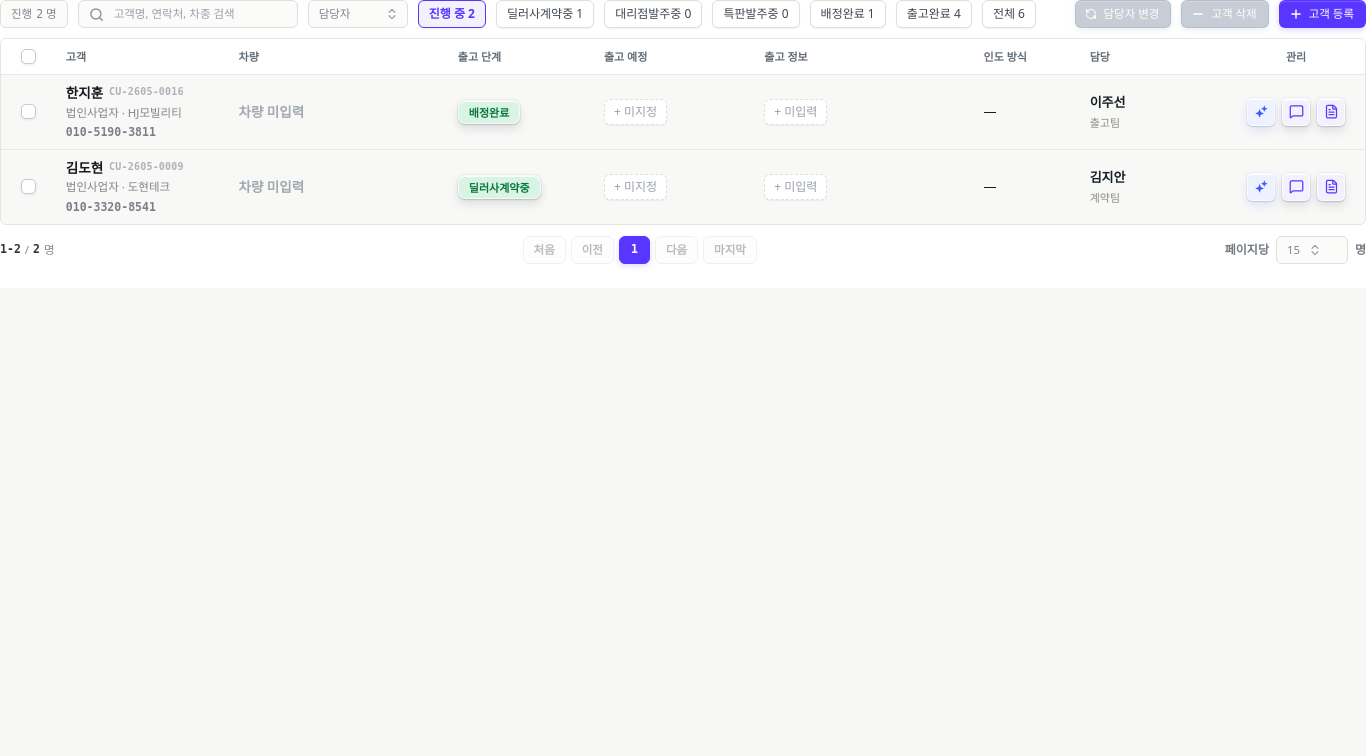
Scenario: 출고 관리(delivery) 콘솔 › 정산 칸은 최고관리자에게만 보인다
Click the button "+ 미입력" in the row of "한지훈" at point(796, 112), box [764,99,827,125]
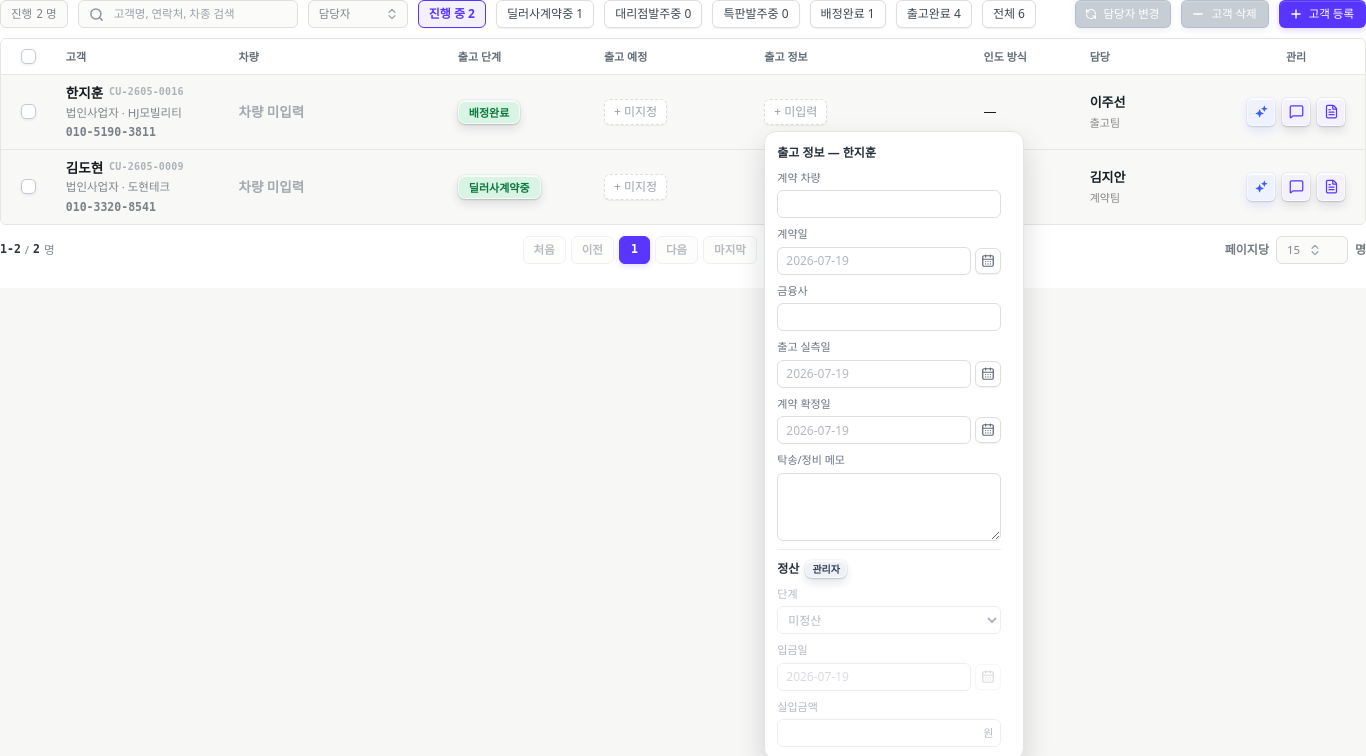
Check: the field labelled "입금일" is shown, box [777,663,971,691]
Check: the field labelled "실입금액 원" is shown, box [777,719,1001,747]
